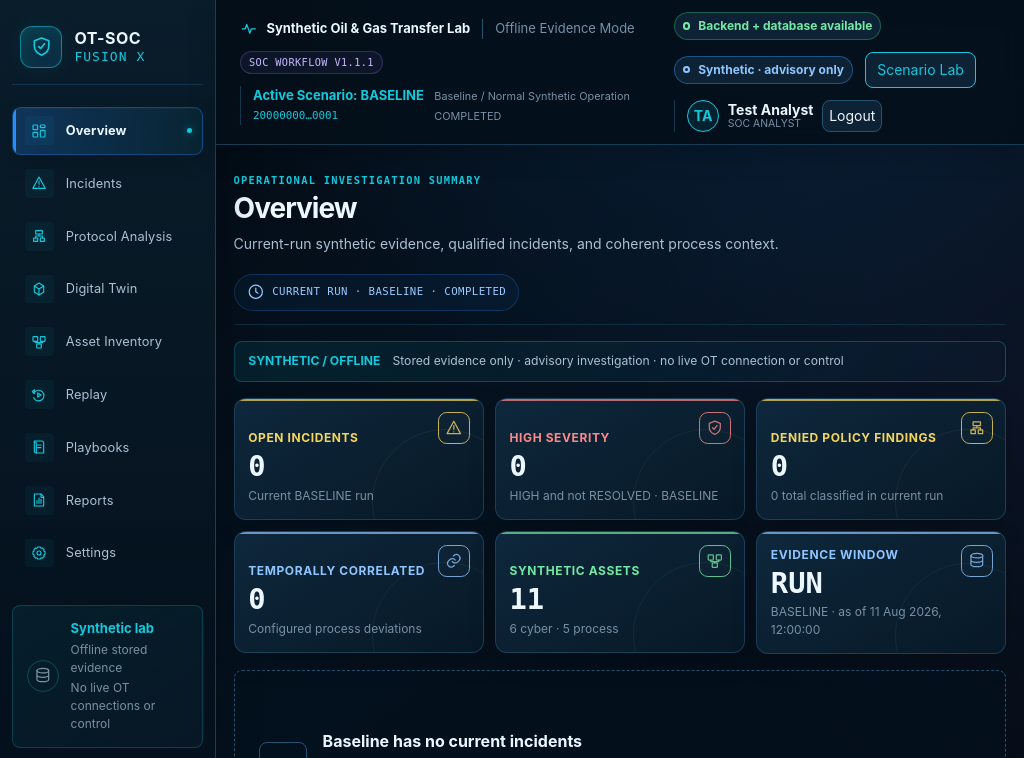
it: v1.1 authenticated SOC workflow foundation › keeps Scenario Lab mutation controls unavailable to a SOC_ANALYST
The image size is (1024, 758).
Expected: the heading "Overview" is shown, top-left (234, 191), bottom-right (357, 225)
Step 1. Click the button "Scenario Lab" → click(921, 70), box top-left (865, 52), bottom-right (976, 88)
(page scrolled)
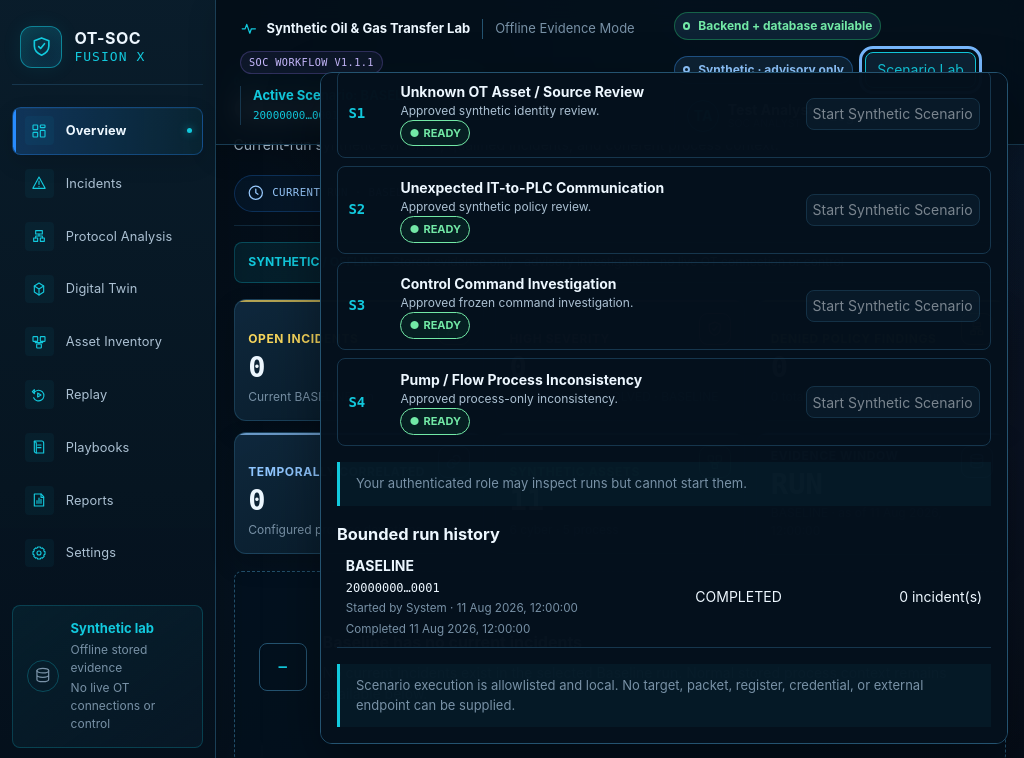
Now the number of buttons "Start Synthetic Scenario" is 4, box top-left (806, 98), bottom-right (980, 130); top-left (806, 194), bottom-right (980, 226); top-left (806, 290), bottom-right (980, 322); top-left (806, 386), bottom-right (980, 418)
Now the button "Start Synthetic Scenario" in the row of "Unknown OT Asset / Source Review" is disabled, box top-left (806, 98), bottom-right (980, 130)
Now the button "Start Synthetic Scenario" next to "Unexpected IT-to-PLC Communication" is disabled, box top-left (806, 194), bottom-right (980, 226)
